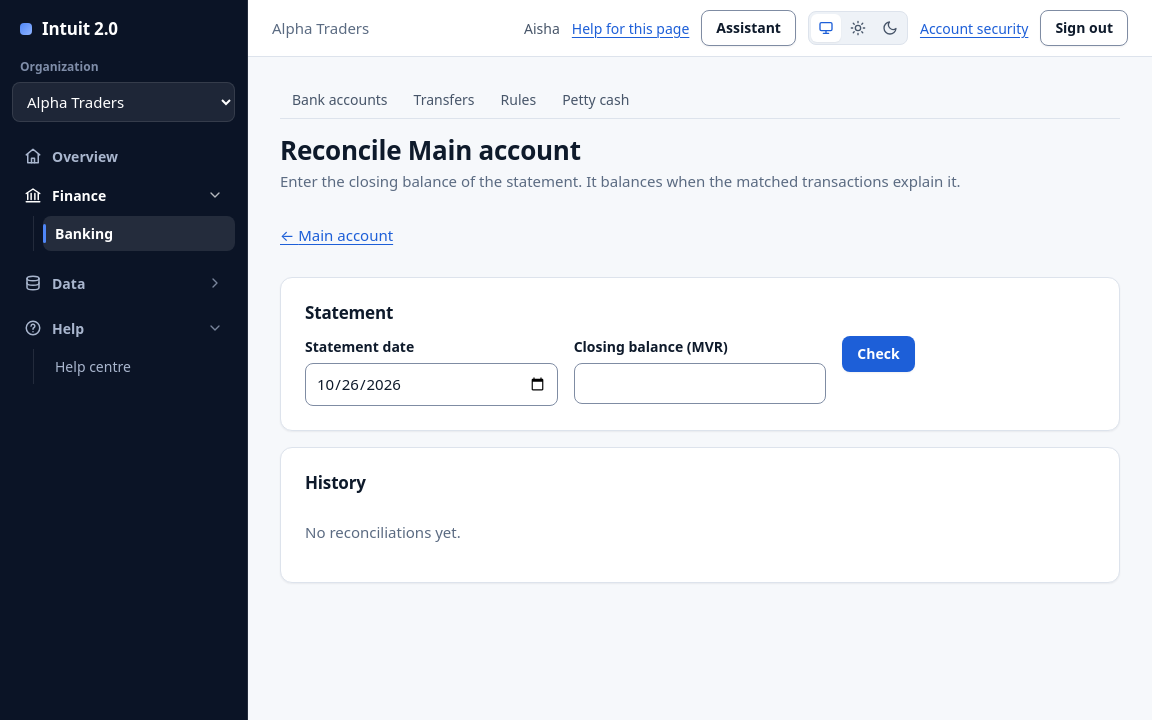
Test case: reconciliation page › shows the difference the server computes and only enables Finish when it balances
In the field labelled "Closing balance (MVR)": (700, 384) [574,363,826,404], type "850.00"
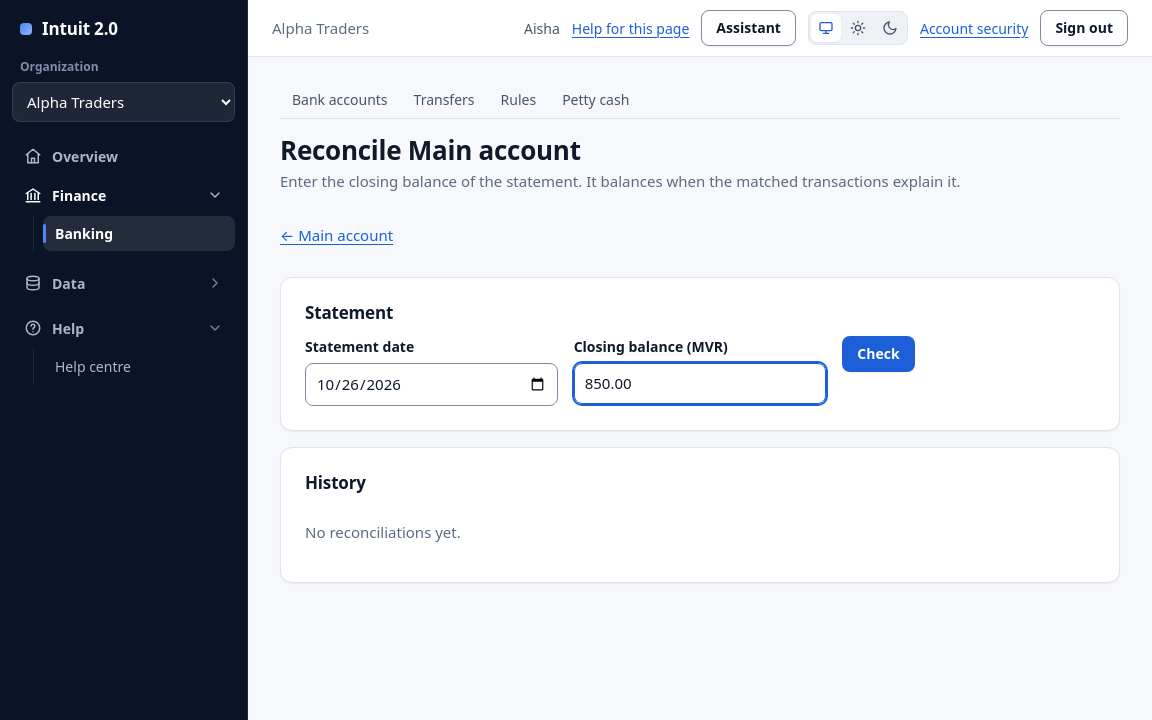
Click the button "Check": (878, 354) [842,336,915,372]
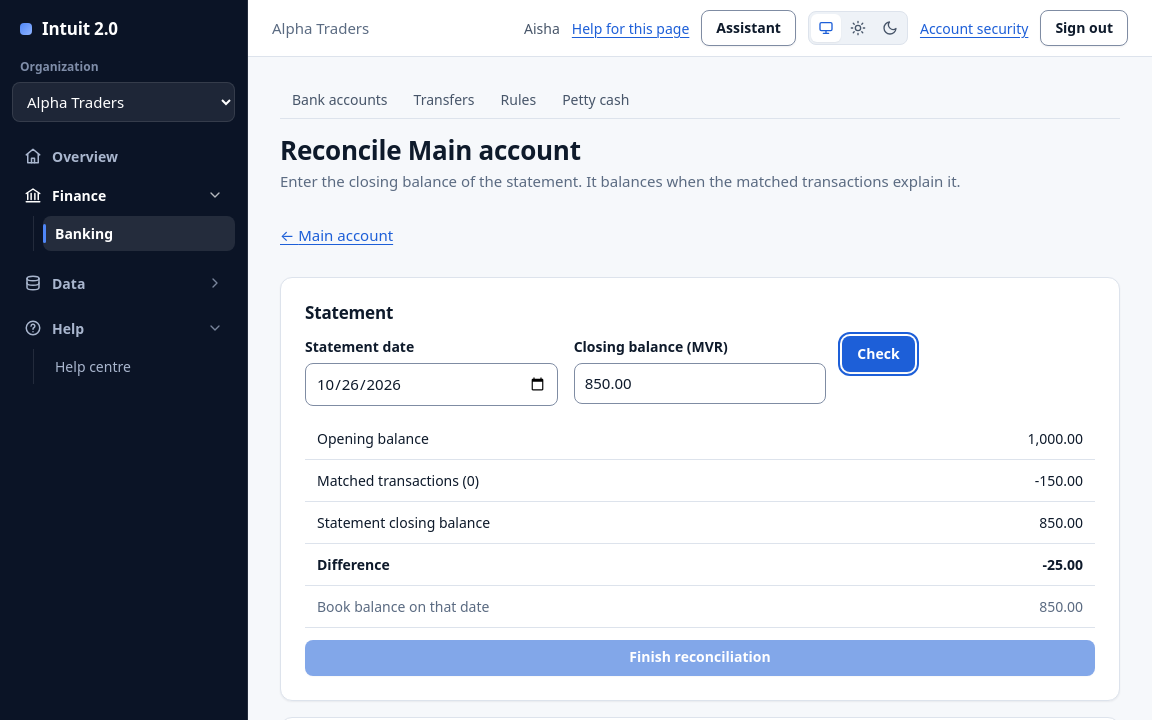
Check: the column heading "-25.00" is shown, box [868,543,1095,585]
Check: the button "Finish reconciliation" is disabled, box [305,640,1095,676]
Click the button "Check": (878, 354) [842,336,915,372]
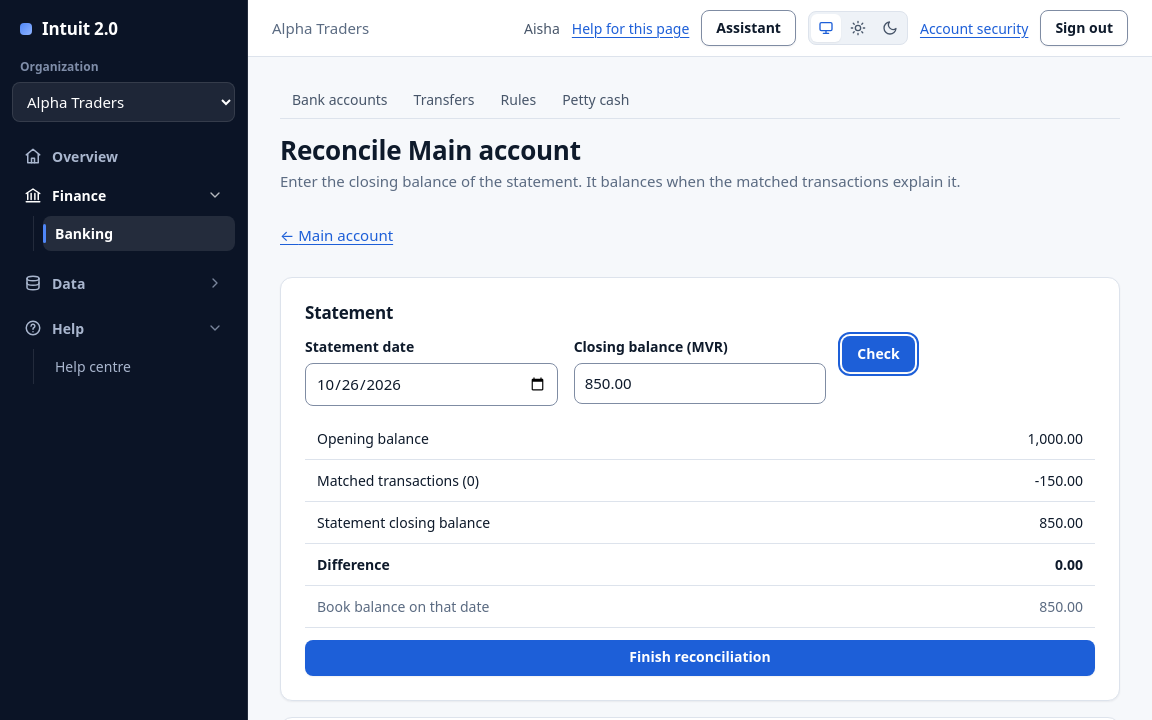
Check: the button "Finish reconciliation" is enabled, box [305,640,1095,676]
